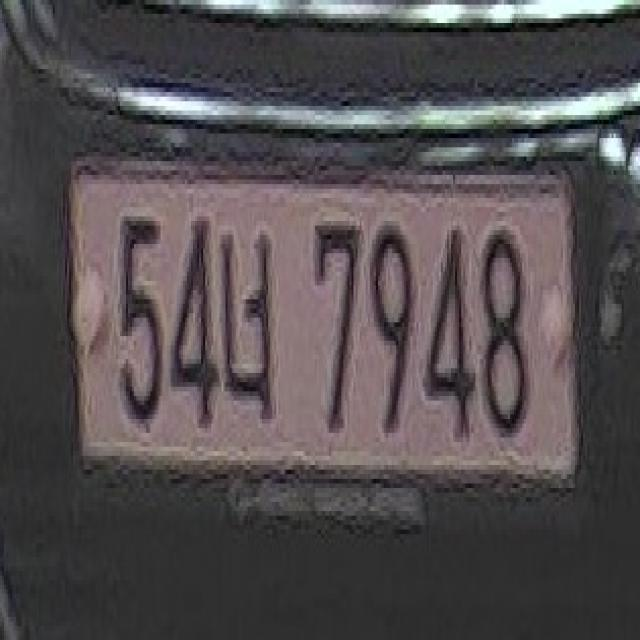4: (170, 180, 222, 451), (427, 216, 473, 442)
5: (116, 184, 170, 428)
7: (304, 198, 366, 442)
8: (476, 203, 534, 465)
9: (364, 194, 418, 446)
license_plate: (65, 148, 593, 498)
neo: (216, 216, 286, 419)
